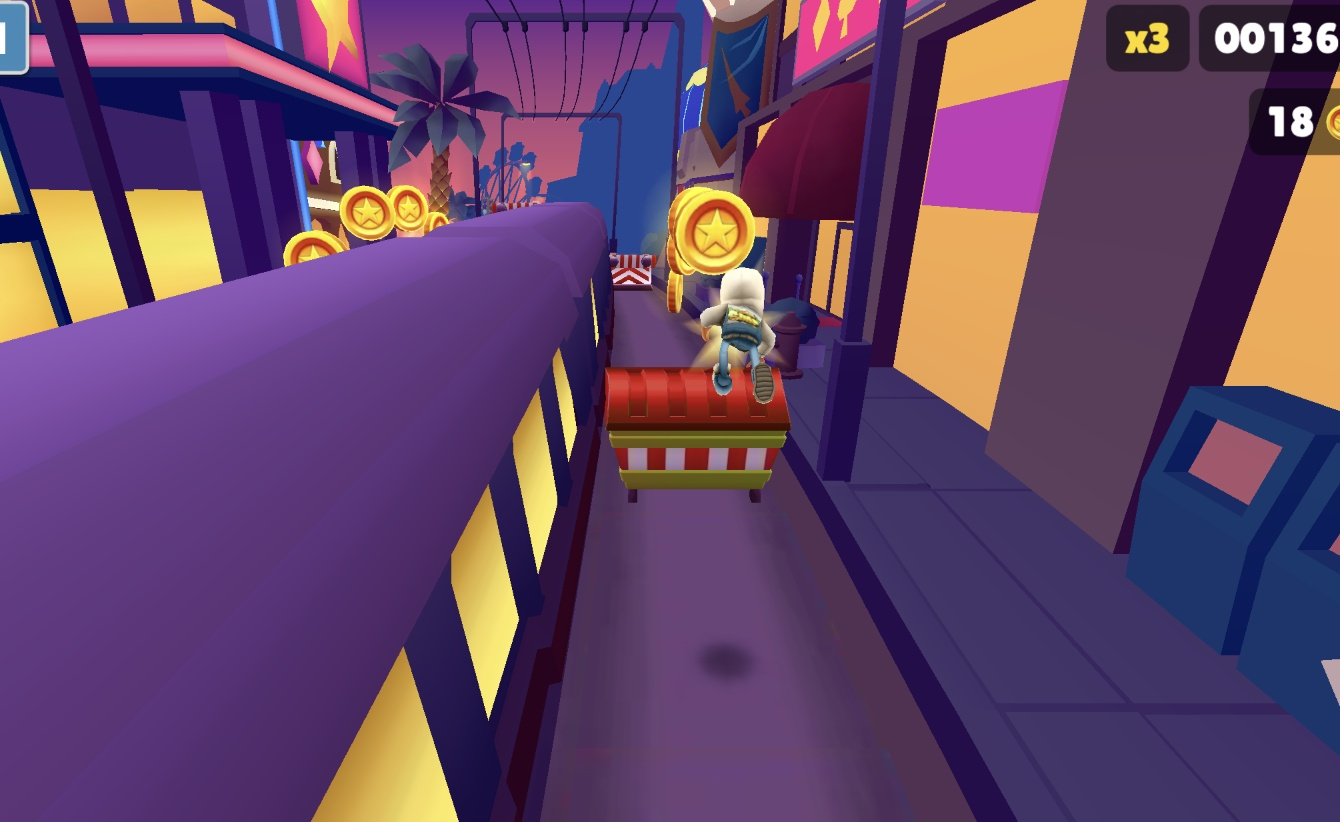ground_barrier: (598, 364, 797, 493), (608, 254, 660, 292)
train: (0, 204, 612, 822)
